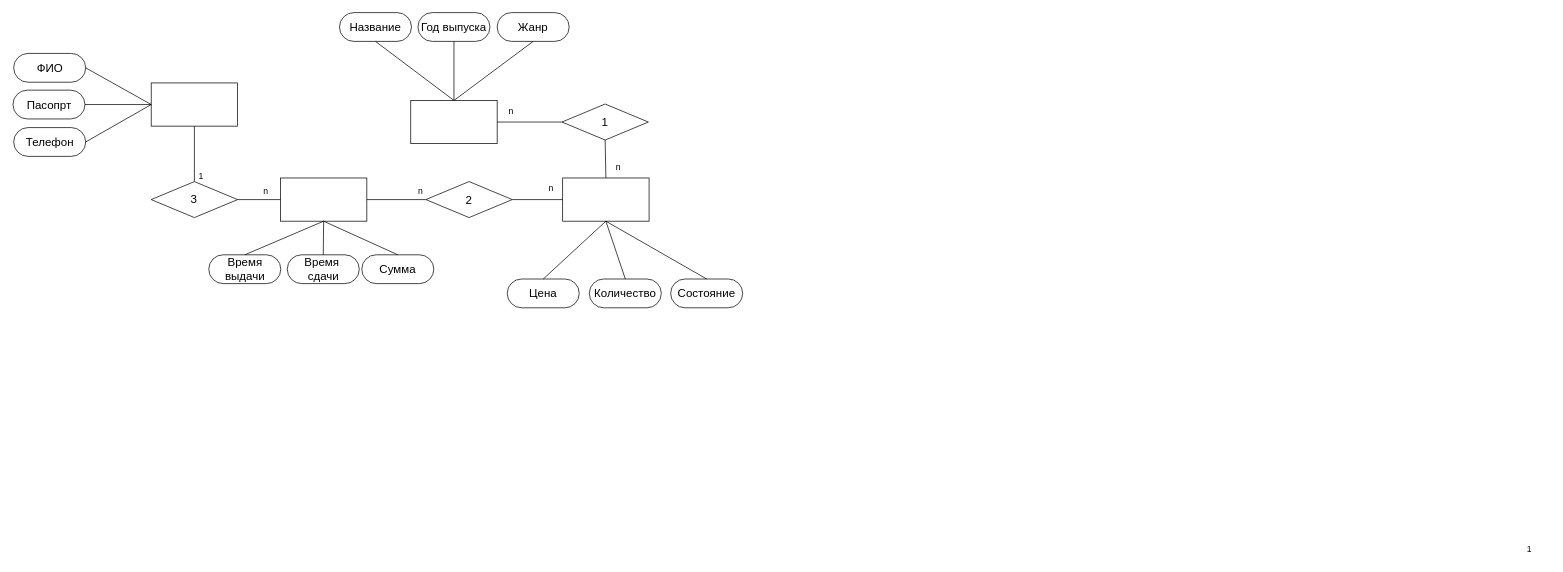
This 1563x572 diagram has some shape labels left out. Each missing label, with the centre of its shape:
"Диск" goes at (x=605, y=199).
"Заказ" goes at (x=323, y=199).
"Клиент" goes at (x=194, y=104).
"Фильм" goes at (x=453, y=122).
